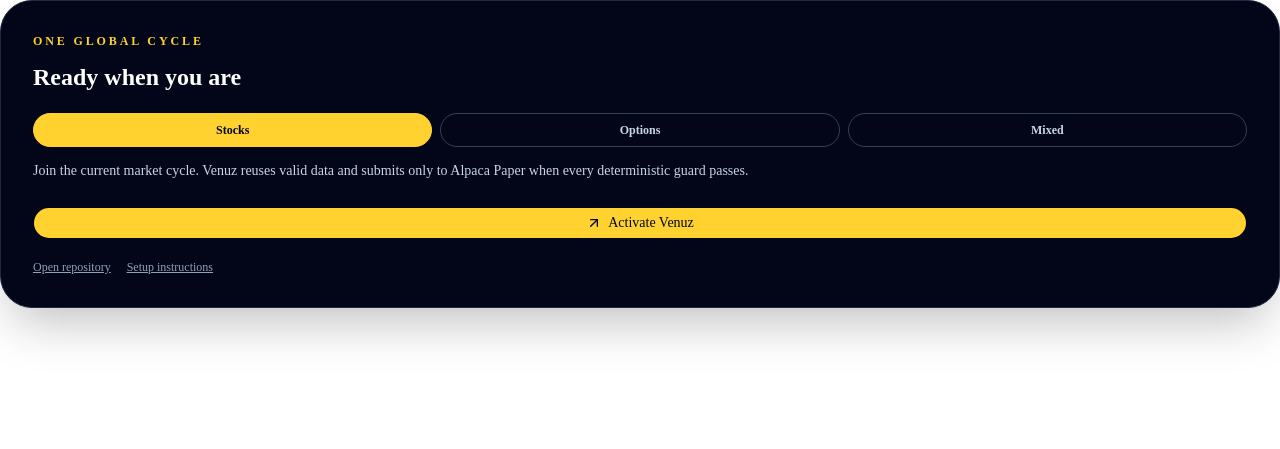
ActivationPanel › joins the one shared cycle and shows safe state
Click the button "Activate Venuz": (640, 223) [33, 207, 1247, 239]
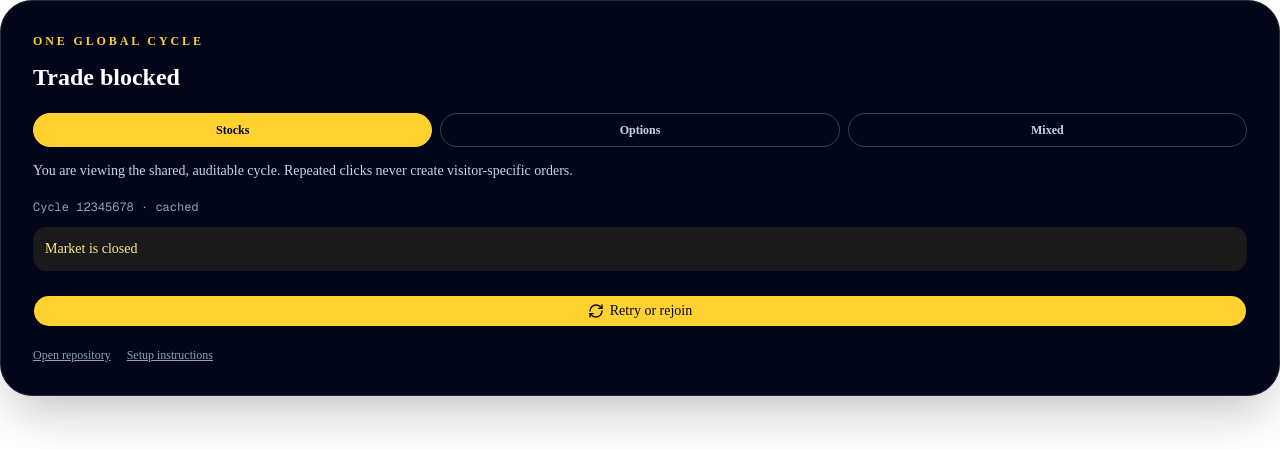
Check: the heading "Trade blocked" is shown, box [33, 64, 180, 90]
Check: the message reads "Market is closed", box [45, 241, 138, 256]
Check: the text "Cycle 12345678 · cached" is shown, box [33, 199, 199, 215]
